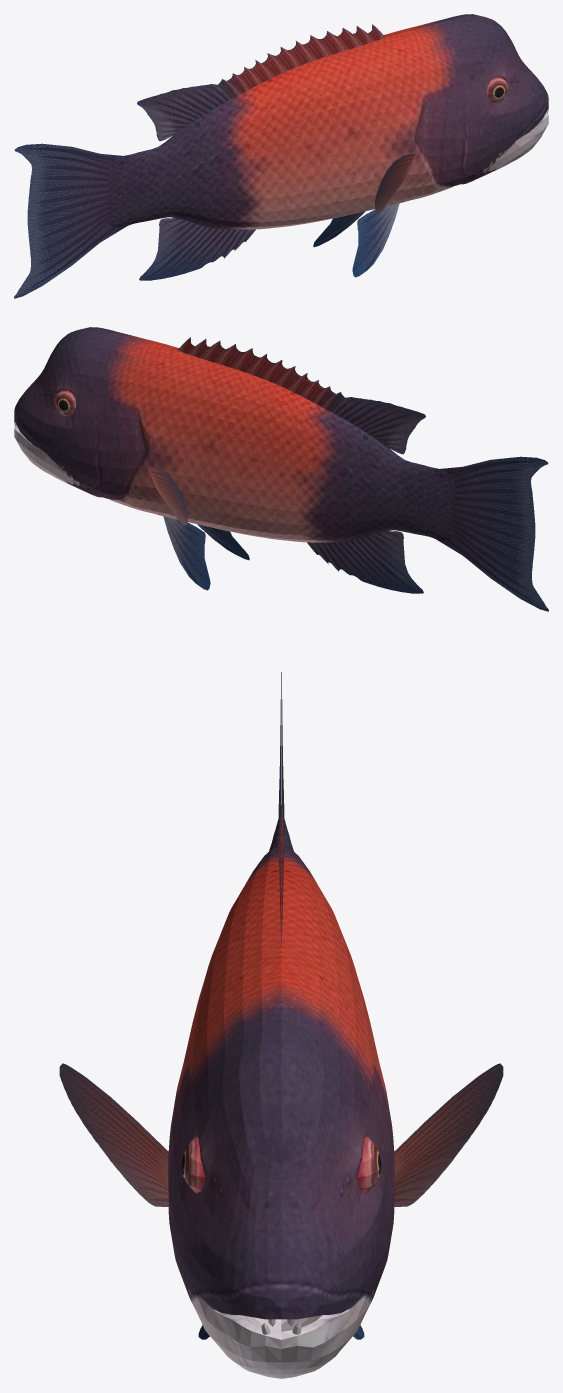
File: sheephead.glb
The picture shows the model from 3 angles, top to bottom: view 1: azimuth 30°, elevation 25°; view 2: azimuth 150°, elevation 25°; view 3: azimuth 270°, elevation 25°; orthographic projection. The views are drawn at different scales.
Visible parts, largest first — view 1: sheephead; view 2: sheephead; view 3: sheephead.
Part boxes in pixels (x1,y1,x2,y2): sheephead: (14,14,548,298); sheephead: (14,327,548,611); sheephead: (59,672,503,1378).
Bounding box in the file's own units: 1 × 0.419 × 0.3611.
1 material, 1 textured.
